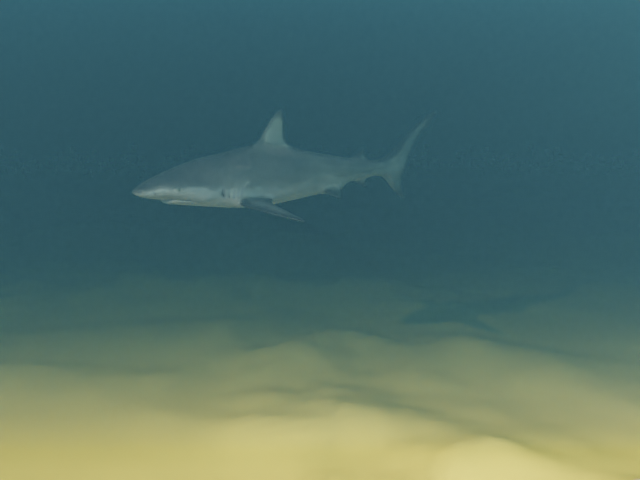Carribean Shark.001: (131, 109, 436, 221)
